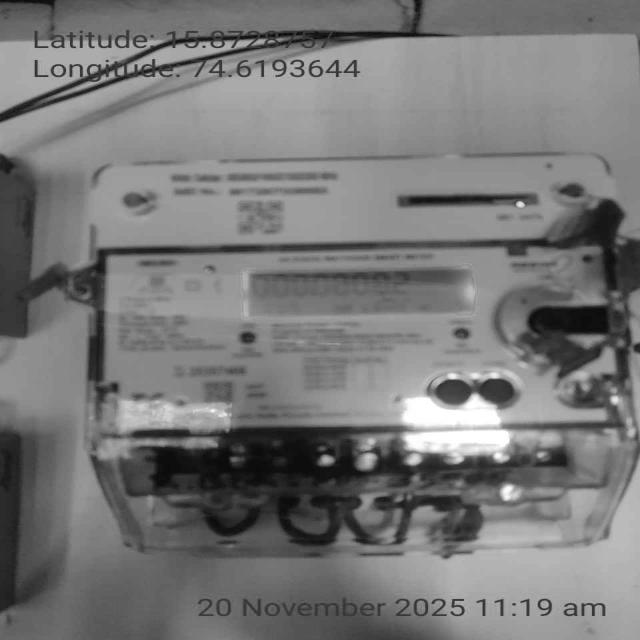meter: (91, 162, 628, 429)
